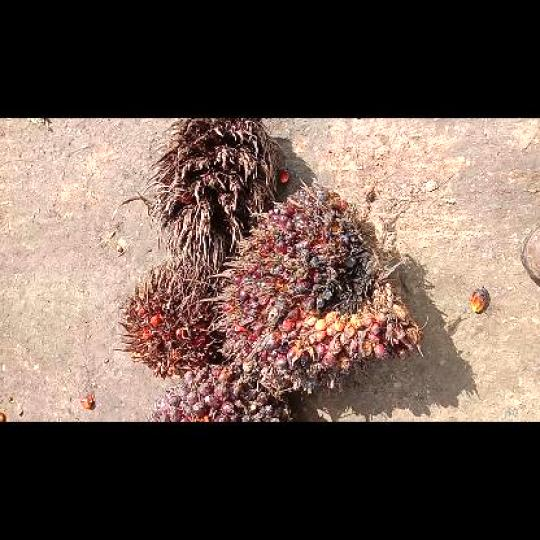kurang masak: (145, 367, 299, 420)
masak: (201, 176, 425, 398)
terlalu masak: (112, 261, 228, 383)
